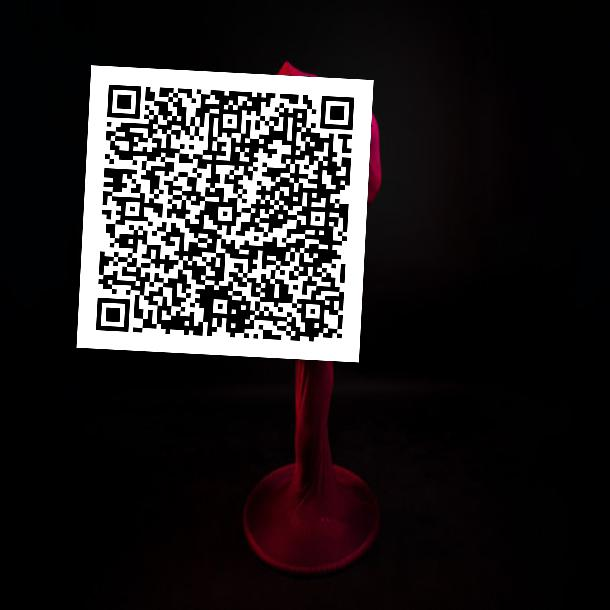qr_code: (76, 65, 373, 362)
